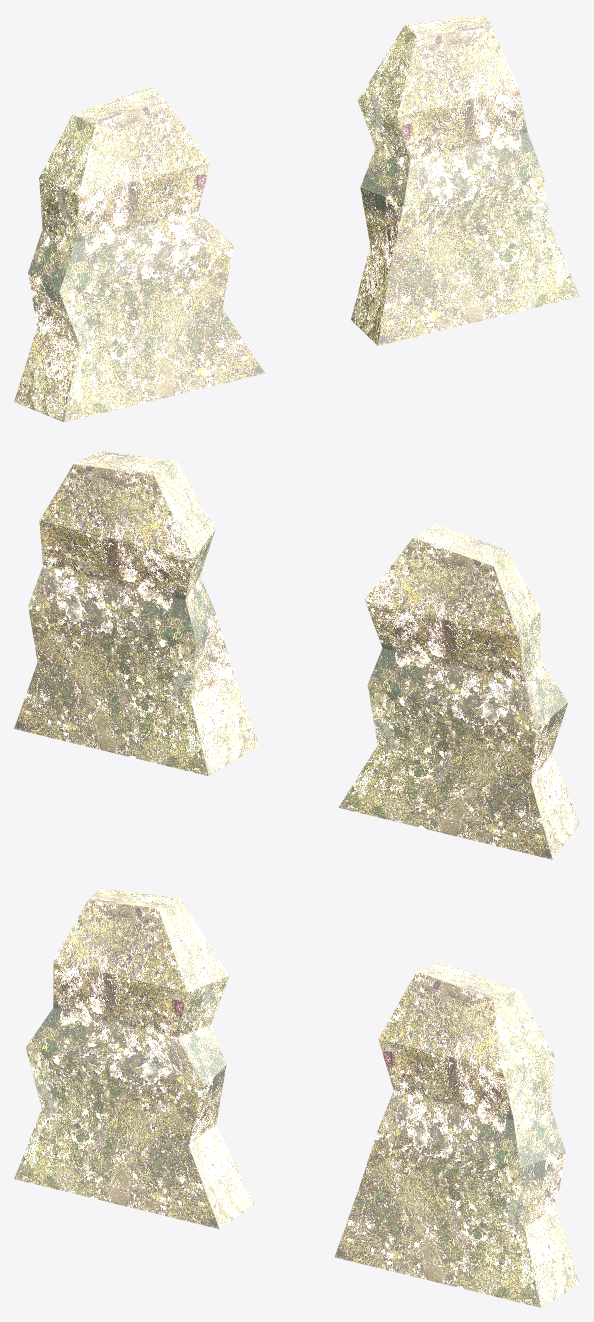
The model's file is cellar_wall.glb.
3 renders of one model, top to bottom at view 1: azimuth 30°, elevation 25°; view 2: azimuth 150°, elevation 25°; view 3: azimuth 330°, elevation 25°, orthographic. The views are drawn at different scales.
Parts seen in each view (by area): view 1: cellar_wall_fall; view 2: cellar_wall_fall; view 3: cellar_wall_fall.
Boxes of the visible parts, x1=… form: cellar_wall_fall: x1=14, y1=14, x2=579, y2=422; cellar_wall_fall: x1=14, y1=451, x2=579, y2=859; cellar_wall_fall: x1=14, y1=888, x2=579, y2=1307.
Size of the model in its own units: 15.84 by 8.16 by 2.21.
